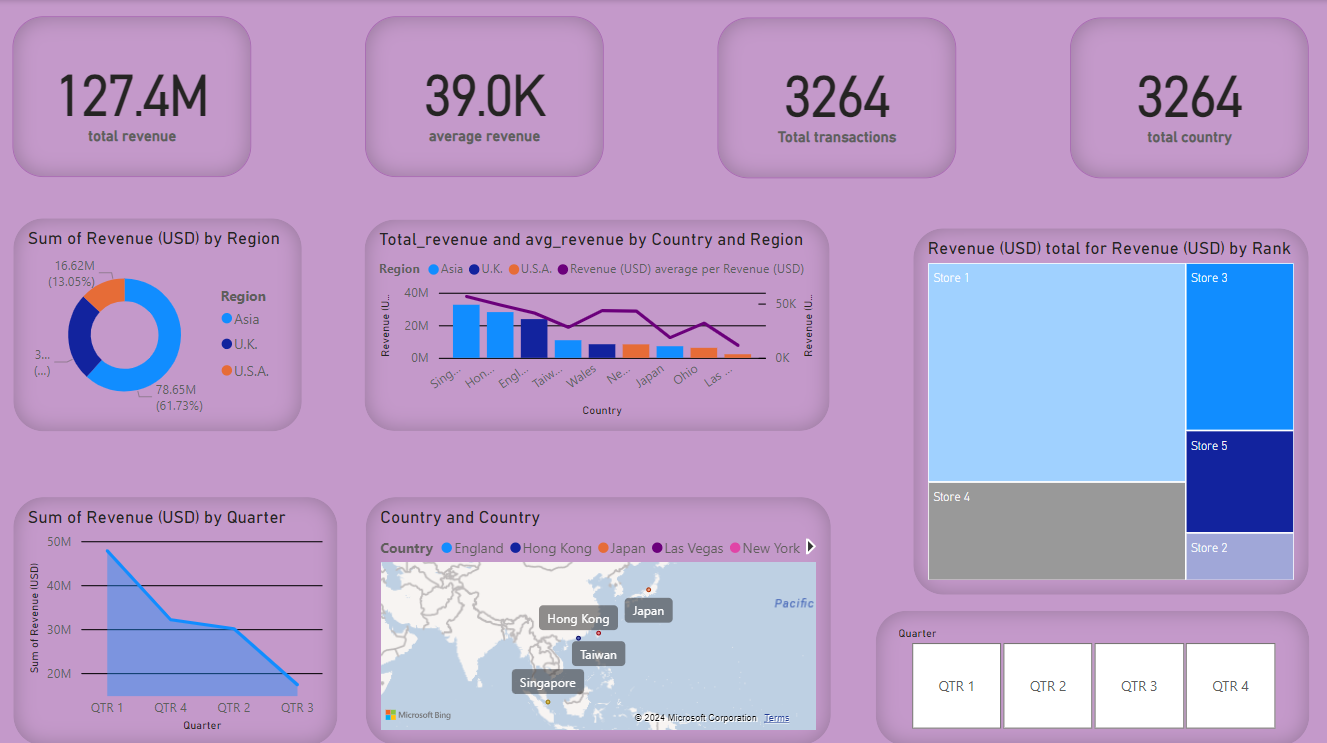

The dashboard page shown, as its layout file describes it:
{"tool":"powerbi","page":{"name":"Page 1","canvas":[1280,720],"ordinal":0},"visuals":[{"type":"card","fields":{"Values":["Table1.Revenue (USD) total for Revenue (USD)"]},"box":[12.3,15.1,230.5,155.1],"z":0},{"type":"card","fields":{"Values":["Table1.Revenue (USD) average per Revenue (USD)"]},"box":[352.7,15.1,230.5,155.1],"z":1000},{"type":"card","fields":{"Values":["Table1.total country"]},"box":[1033.3,16.5,230.5,155.1],"z":2000},{"type":"card","fields":{"Values":["Table1.Count of First Name total for First Name"]},"box":[693,16.5,230.5,155.1],"z":3000},{"type":"donutChart","fields":{"Y":["Sum(Table1.Revenue (USD))"],"Category":["Table1.Region"]},"box":[12.3,209.9,279.9,207.2],"z":4000},{"type":"lineStackedColumnComboChart","title":"Total_revenue and avg_revenue by Country and Region","fields":{"Category":["Table1.Country"],"Series":["Table1.Region"],"Y2":["Table1.Revenue (USD) average per Revenue (USD)"],"Y":["Table1.Revenue (USD) total for Revenue (USD)"]},"box":[351.3,211.3,450.1,205.8],"z":5000},{"type":"treemap","fields":{"Group":["Table1.Rank"],"Values":["Table1.Revenue (USD) total for Revenue (USD)"]},"box":[881,219.5,382.8,355.4],"z":6000},{"type":"areaChart","fields":{"Category":["Table1.Quarter"],"Y":["Sum(Table1.Revenue (USD))"]},"box":[12.3,478.9,314.2,241.5],"z":7000},{"type":"map","fields":{"Category":["Table1.Country"],"Series":["Table1.Country"]},"box":[352,479,450,241],"z":8000},{"type":"slicer","fields":{"Values":["Table1.Quarter"]},"box":[843.9,588.7,419.9,131.7],"z":9000}]}

Visuals, with their boxes in screenshot pixels (x1, y1, x2, y2), scaled from the page's 1280x720 canvas onto the 1327x743 screenshot:
card - Table1.Revenue (USD) total for Revenue (USD): left=13, top=16, right=252, bottom=176
card - Table1.Revenue (USD) average per Revenue (USD): left=366, top=16, right=605, bottom=176
card - Table1.total country: left=1071, top=17, right=1310, bottom=177
card - Table1.Count of First Name total for First Name: left=718, top=17, right=957, bottom=177
donutChart - Sum(Table1.Revenue (USD)) x Table1.Region: left=13, top=217, right=303, bottom=430
"Total_revenue and avg_revenue by Country and Region" lineStackedColumnComboChart: left=364, top=218, right=831, bottom=430
treemap - Table1.Rank x Table1.Revenue (USD) total for Revenue (USD): left=913, top=227, right=1310, bottom=593
areaChart - Table1.Quarter x Sum(Table1.Revenue (USD)): left=13, top=494, right=338, bottom=742
map - Table1.Country x Table1.Country: left=365, top=494, right=831, bottom=742
slicer - Table1.Quarter: left=875, top=608, right=1310, bottom=742
